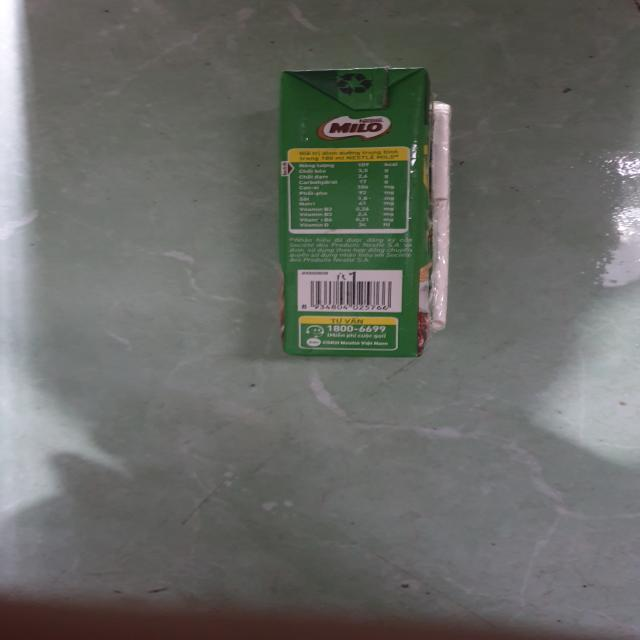Milo: (265, 68, 459, 365)
